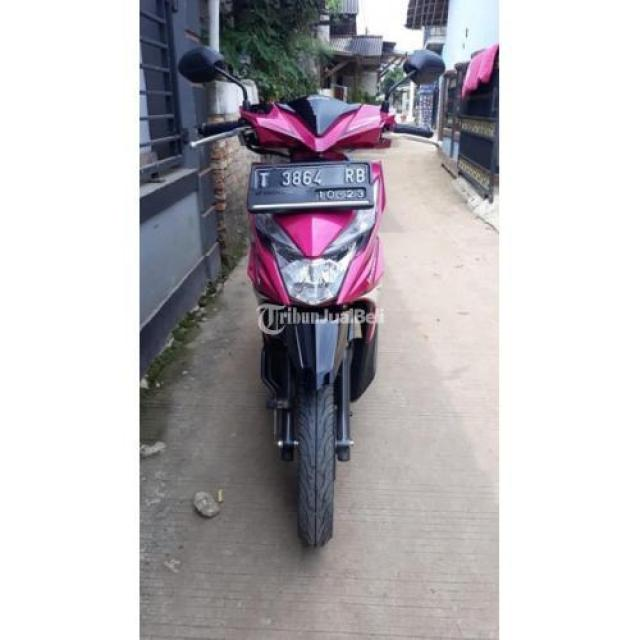plate: (252, 164, 373, 206)
